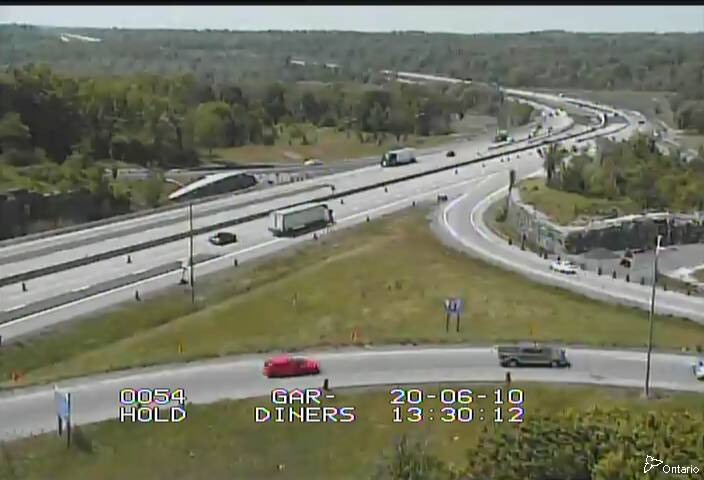time_stamp: (385, 383, 529, 407), (385, 406, 529, 426)
